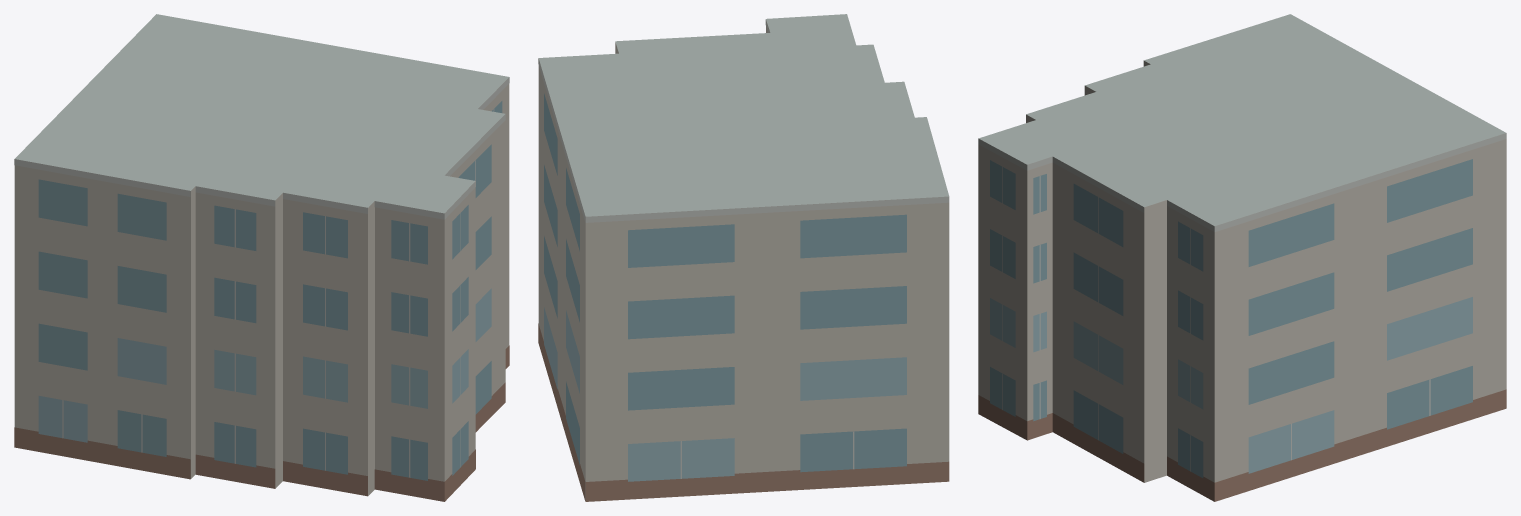
Rendered from survey-upis-32490083.glb.
3 renders of one model, left to right at view 1: azimuth 30°, elevation 25°; view 2: azimuth 150°, elevation 25°; view 3: azimuth 270°, elevation 25°, orthographic. The views are drawn at different scales.
Visible parts, largest first — view 1: survey-upis-32490083.tmp; view 2: survey-upis-32490083.tmp; view 3: survey-upis-32490083.tmp.
Part boxes in pixels (x1,y1,x2,y2): survey-upis-32490083.tmp: [14, 14, 509, 501]; survey-upis-32490083.tmp: [538, 14, 949, 501]; survey-upis-32490083.tmp: [978, 14, 1506, 501].
Bounding box in the file's own units: 18.64 × 11.28 × 19.6.
